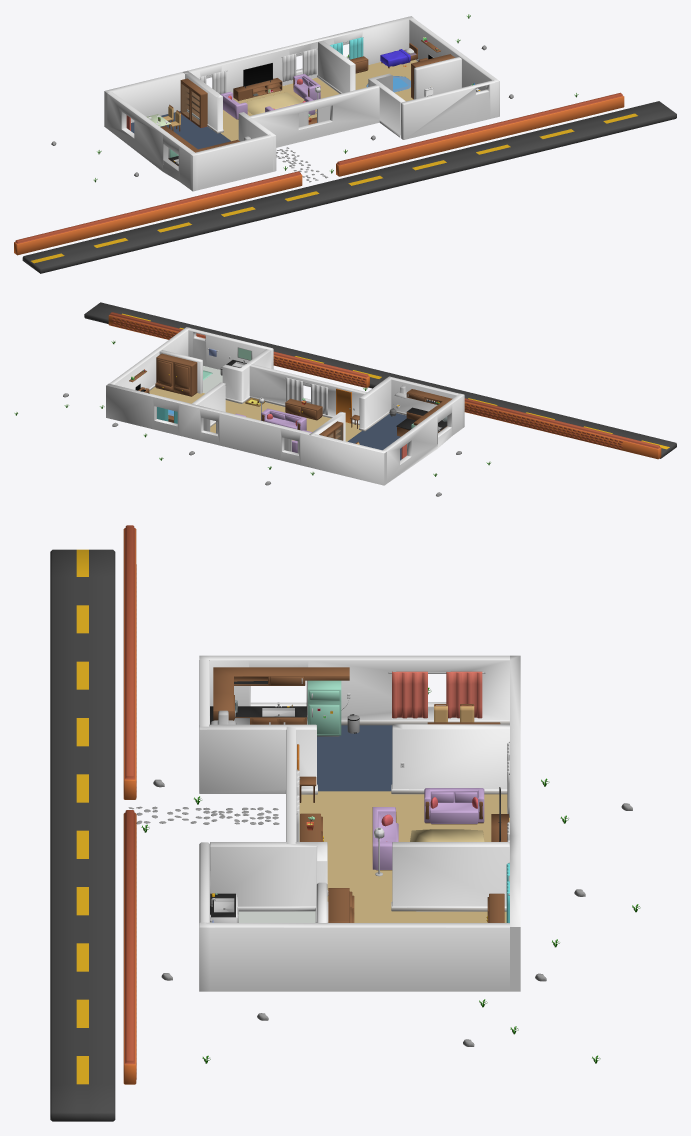
The model's file is MainSceneHouse.fbx.
3 views of the same model, one above another, from view 1: azimuth 30°, elevation 25°; view 2: azimuth 150°, elevation 25°; view 3: azimuth 270°, elevation 25° (orthographic). The views are drawn at different scales.
Visible parts, largest first — view 1: Asphalt, WallBrick, Wall10, Wall8.001, Wall8.002, Wall7, Ground, Wall8, Wall9, Wall4, Wall1, Wall3 (+10 smaller); view 2: Wall10, WallBrick, Asphalt, Ground, Wall7, Wall8.001, Wall8.002, Wall9, Closet, Wall3, Wall5, Wall8 (+8 smaller); view 3: Asphalt, Wall9, Ground, Wall7, Wall6, Wall1, WallBrick, Wall3, Wall5, Wall10, Sofas, Curtain (+8 smaller).
Part boxes in pixels (x1,y1,x2,y2): Asphalt: [22, 101, 676, 273]; WallBrick: [14, 92, 624, 255]; Wall10: [104, 16, 413, 128]; Wall8.001: [248, 85, 379, 147]; Wall8.002: [401, 80, 495, 139]; Wall7: [107, 92, 197, 191]; Ground: [131, 60, 417, 149]; Wall8: [196, 134, 272, 190]; Wall9: [409, 18, 499, 117]; Wall4: [414, 57, 461, 99]; Wall1: [317, 40, 355, 93]; Wall3: [368, 73, 405, 137]; Wall10: [106, 383, 386, 485]; WallBrick: [108, 312, 661, 459]; Asphalt: [84, 302, 676, 458]; Ground: [149, 366, 406, 460]; Wall7: [383, 393, 464, 483]; Wall8.001: [249, 363, 369, 424]; Wall8.002: [188, 328, 273, 369]; Wall9: [109, 327, 190, 390]; Closet: [155, 353, 197, 396]; Wall3: [222, 349, 271, 403]; Wall5: [359, 376, 391, 431]; Wall8: [390, 377, 459, 415]; Asphalt: [50, 549, 115, 1121]; Wall9: [199, 922, 509, 991]; Ground: [238, 725, 509, 922]; Wall7: [199, 655, 509, 725]; Wall6: [391, 724, 509, 794]; Wall1: [391, 842, 509, 911]; WallBrick: [123, 525, 136, 1084]; Wall3: [210, 842, 328, 922]; Wall5: [199, 724, 317, 794]; Wall10: [510, 655, 520, 991]; Sofas: [372, 788, 484, 870]; Curtain: [388, 671, 485, 718].
Bounding box in the file's own units: 6502 × 404 × 2866.
